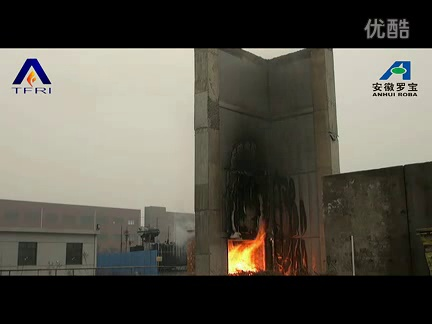fire: (228, 217, 268, 273)
